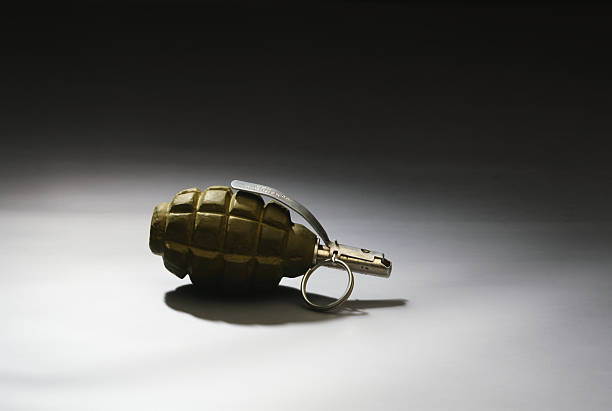e1: (150, 179, 393, 312)
